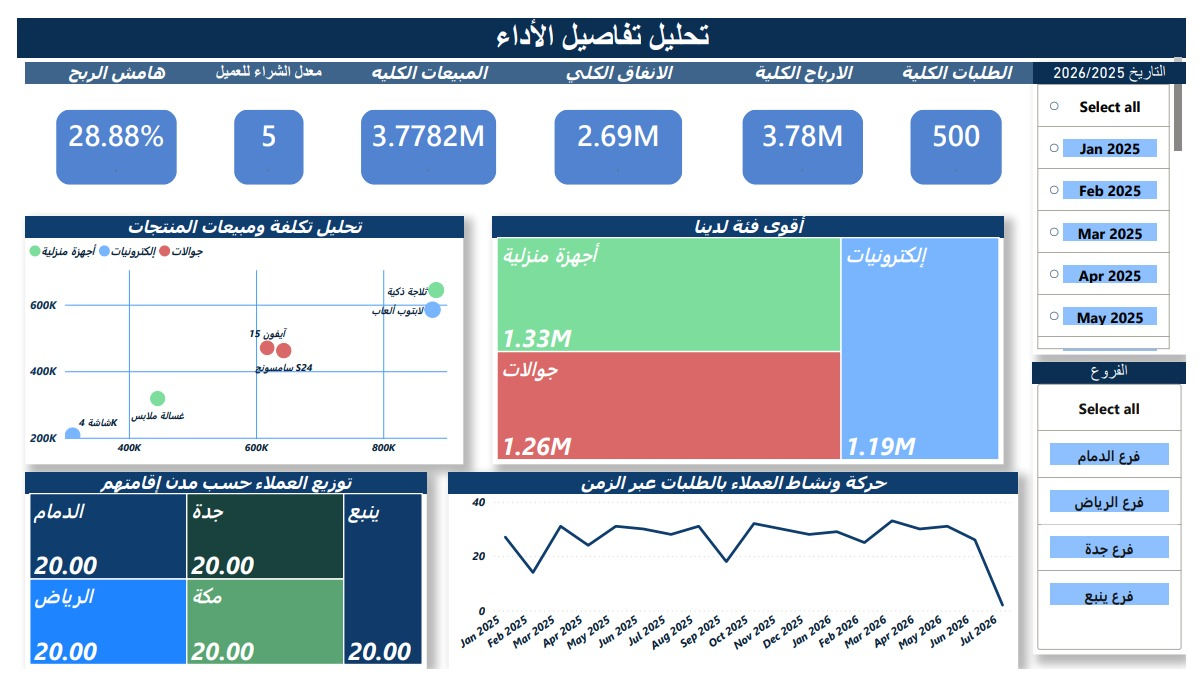

The dashboard page shown, as its layout file describes it:
{"tool":"powerbi","page":{"name":"Performance Deep-Dive","canvas":[1280,720],"ordinal":1},"visuals":[{"type":"textbox","title":"تحليل تفاصيل الأداء","box":[0,8,1280,56],"z":0},{"type":"treemap","title":"أقوى فئة لدينا","fields":{"Group":["Categories.CategoryName"],"Values":["Orders.Total Sales"]},"box":[520,224,560,272],"z":1000},{"type":"scatterChart","title":"تحليل تكلفة ومبيعات المنتجات","fields":{"Category":["Products.ProductName"],"X":["Orders.Total Sales"],"Size":["Sum(Orders.Quantity)"],"Series":["Categories.CategoryName"],"Y":["Orders.Total Cost"]},"box":[8,224,480,272],"z":2000},{"type":"advancedSlicerVisual","title":"التاريخ 2026/2025","fields":{"Values":["Calendar.Month Year"]},"box":[1112,56,168,320],"z":3000},{"type":"advancedSlicerVisual","title":"الفروع","fields":{"Values":["Branches.BranchName"]},"box":[1112,384,168,320],"z":4000},{"type":"treemap","title":"توزيع العملاء حسب مدن إقامتهم","fields":{"Group":["Customers.City"],"Values":["CountNonNull(Customers.CustomerID)"]},"box":[8,504,440,216],"z":5000},{"type":"lineChart","title":"حركة ونشاط العملاء بالطلبات عبر الزمن","fields":{"Category":["Calendar.Month Year"],"Y":["Orders.Total Orders"]},"box":[472,504,624,216],"z":6000},{"type":"cardVisual","title":"الطلبات الكلية","fields":{"Data":["Orders.Total Orders"]},"box":[944,56,168,168],"z":7000},{"type":"cardVisual","title":"المبيعات الكليه","fields":{"Data":["Orders.Total Sales"]},"box":[342.4,56,216,168],"z":8000},{"type":"cardVisual","title":"الانفاق الكلي","fields":{"Data":["Orders.Total Cost"]},"box":[553.6,56,208,168],"z":9000},{"type":"cardVisual","title":"الارباح الكلية","fields":{"Data":["Orders.Total Sales"]},"box":[760,56,200,168],"z":10000},{"type":"cardVisual","title":"هامش الربح","fields":{"Data":["Orders.Profit Margin%"]},"box":[8,56,200,168],"z":11000},{"type":"cardVisual","title":"معدل الشراء للعميل","fields":{"Data":["Orders.Avg Orders Per Customer"]},"box":[203.2,56,144,168],"z":12000}]}

Visuals, with their boxes in screenshot pixels (x1, y1, x2, y2), scaled from the page's 1280x720 canvas onto the 1204x686 screenshot:
"تحليل تفاصيل الأداء" textbox: 0 8 1203 61
"أقوى فئة لدينا" treemap: 489 213 1016 473
"تحليل تكلفة ومبيعات المنتجات" scatterChart: 8 213 459 473
"التاريخ 2026/2025" advancedSlicerVisual: 1046 53 1203 358
"الفروع" advancedSlicerVisual: 1046 366 1203 671
"توزيع العملاء حسب مدن إقامتهم" treemap: 8 480 421 685
"حركة ونشاط العملاء بالطلبات عبر الزمن" lineChart: 444 480 1031 685
"الطلبات الكلية" cardVisual: 888 53 1046 213
"المبيعات الكليه" cardVisual: 322 53 525 213
"الانفاق الكلي" cardVisual: 521 53 716 213
"الارباح الكلية" cardVisual: 715 53 903 213
"هامش الربح" cardVisual: 8 53 196 213
"معدل الشراء للعميل" cardVisual: 191 53 327 213
